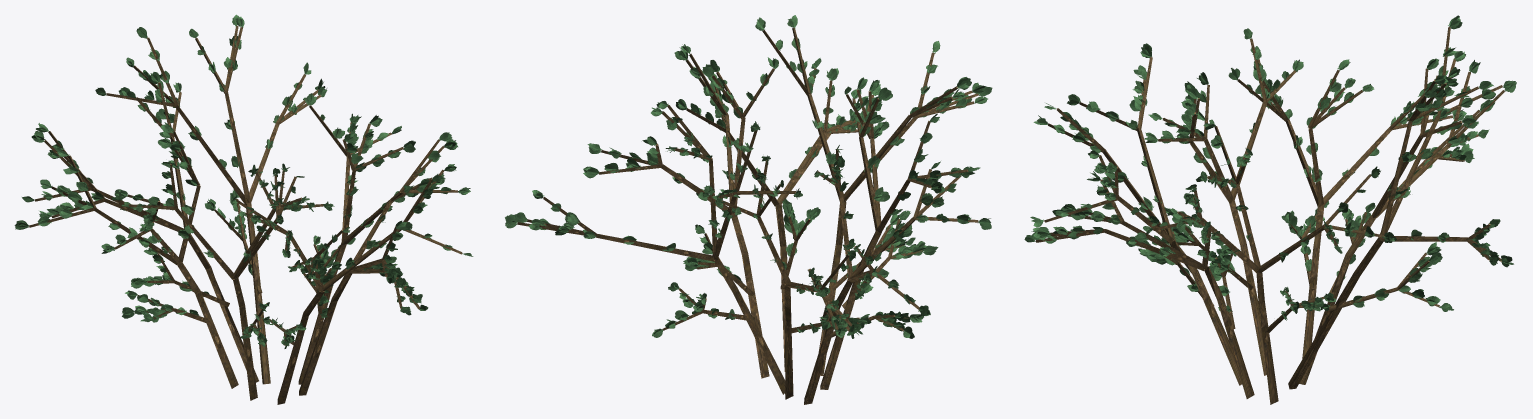
The model's file is alder_thicket_v01_LOD1.fbx.
3 views of the same model, side by side, from view 1: azimuth 30°, elevation 25°; view 2: azimuth 150°, elevation 25°; view 3: azimuth 270°, elevation 25° (orthographic). The views are drawn at different scales.
Parts seen in each view (by area): view 1: alder_thicket_v01_LOD1; view 2: alder_thicket_v01_LOD1; view 3: alder_thicket_v01_LOD1.
Part boxes in pixels (box(x1,y1,x2,y2)): alder_thicket_v01_LOD1: box(14, 14, 473, 404); alder_thicket_v01_LOD1: box(505, 15, 992, 404); alder_thicket_v01_LOD1: box(1024, 15, 1516, 404).
Size of the model in its own units: 516 by 445 by 573.
